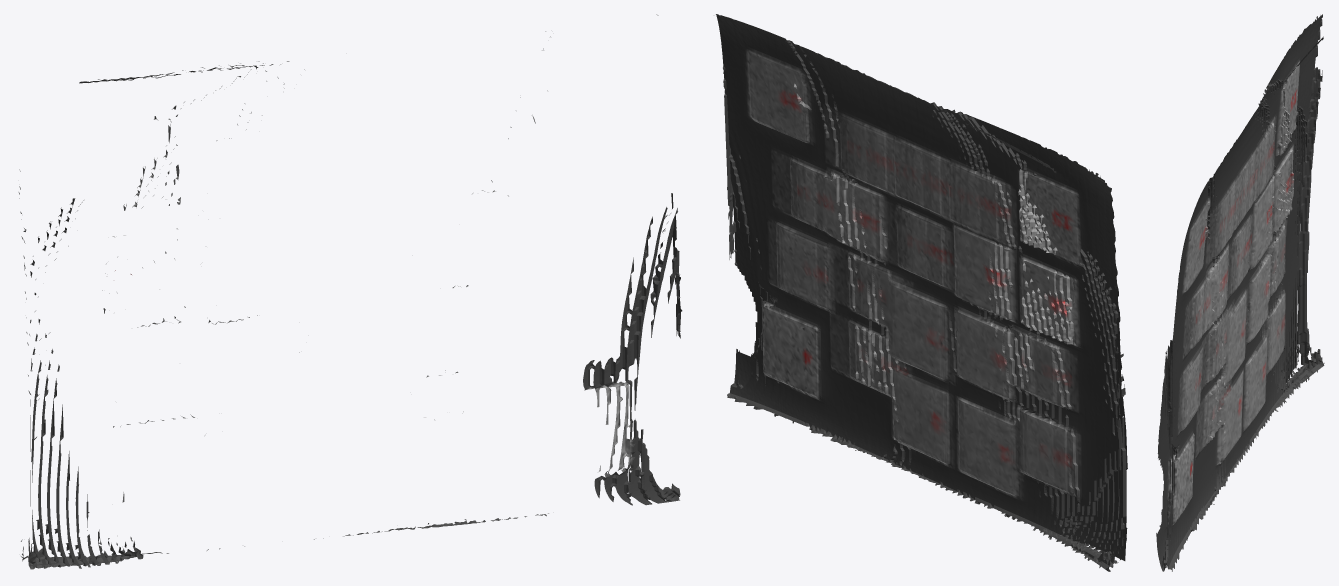
The model's file is mesh_light.glb.
3 views of the same model, side by side, from view 1: azimuth 30°, elevation 25°; view 2: azimuth 150°, elevation 25°; view 3: azimuth 270°, elevation 25° (orthographic). The views are drawn at different scales.
Parts seen in each view (by area): view 1: geometry_0; view 2: geometry_0; view 3: geometry_0.
Boxes of the visible parts, x1=… form: geometry_0: x1=18, y1=14, x2=682, y2=569; geometry_0: x1=716, y1=14, x2=1127, y2=571; geometry_0: x1=1156, y1=14, x2=1324, y2=571.
Size of the model in its own units: 5.06 by 4.07 by 1.73.
